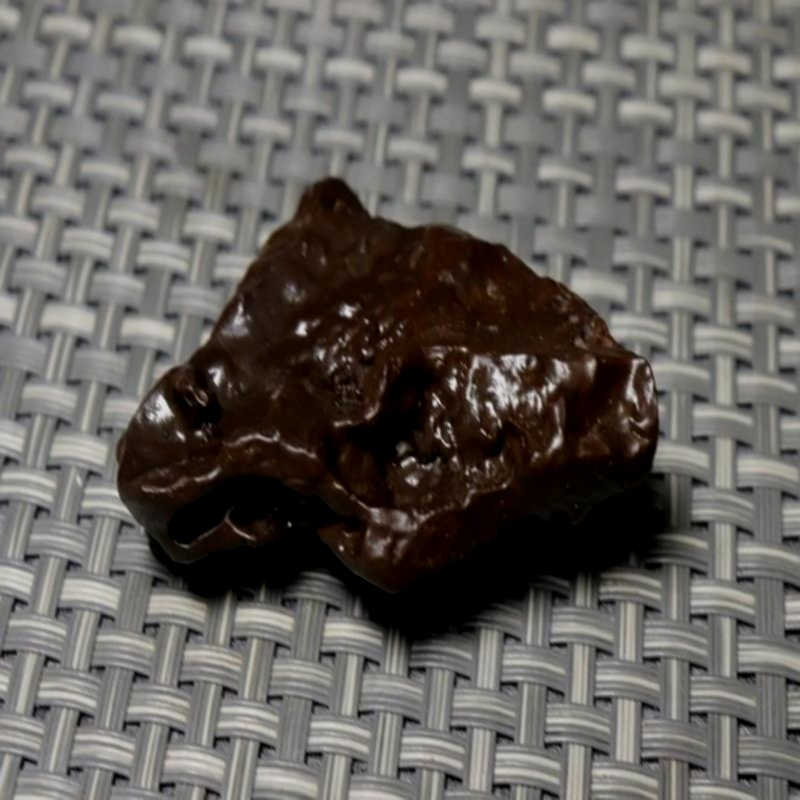halobolite: (103, 170, 673, 609)
